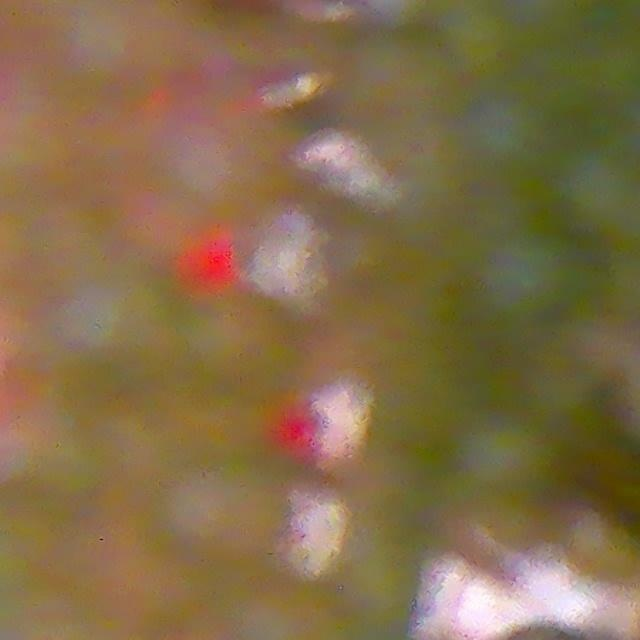SeaGrape: (468, 104, 579, 195), (482, 233, 568, 322)
